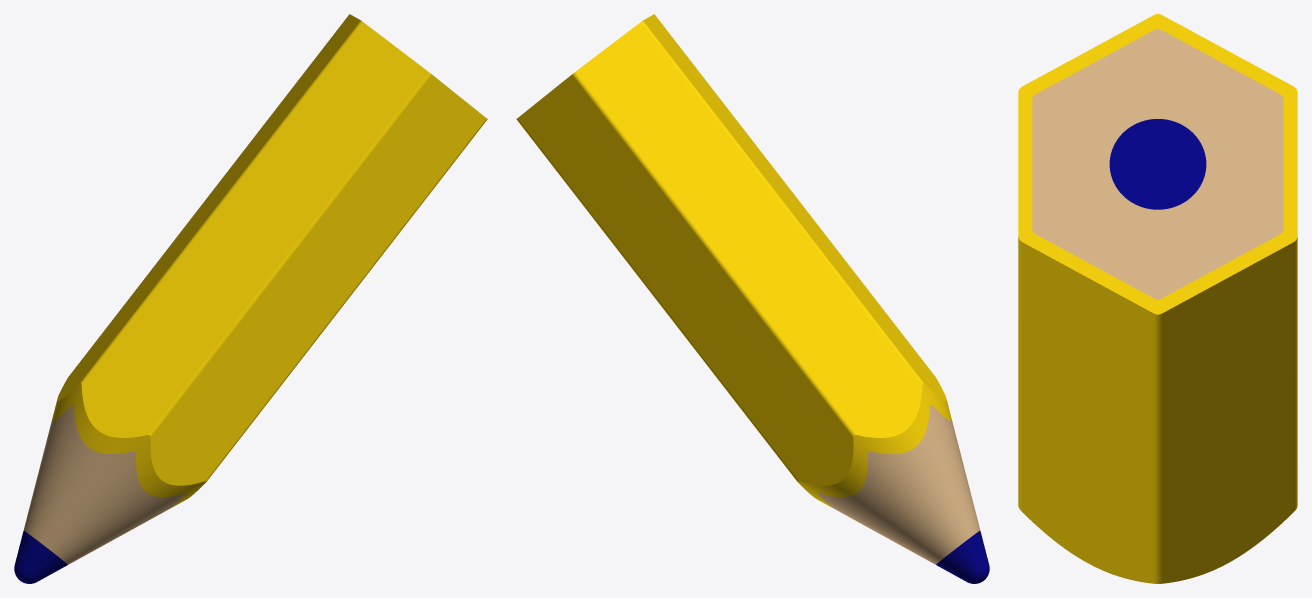
Rendered from pencil.glb.
The picture shows the model from 3 angles, left to right: view 1: azimuth 30°, elevation 25°; view 2: azimuth 150°, elevation 25°; view 3: azimuth 270°, elevation 25°; orthographic projection. The views are drawn at different scales.
Visible parts, largest first — view 1: skin, body, coal; view 2: skin, body, coal; view 3: skin, body, coal.
Boxes of the visible parts, x1,y1,x2,y2 form: skin: (52,14,487,508); body: (23,404,186,564); coal: (14,531,67,583); skin: (516,14,951,508); body: (817,405,980,564); coal: (936,531,989,583); skin: (1018,14,1297,583); body: (1032,29,1283,299); coal: (1109,119,1206,209).
Size of the model in its own units: 5.65 by 5.65 by 1.73.
